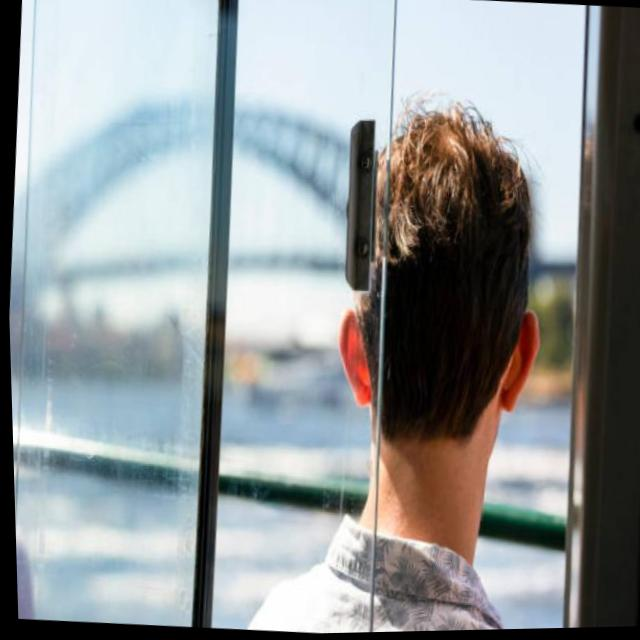no helmet: (289, 74, 559, 533)
